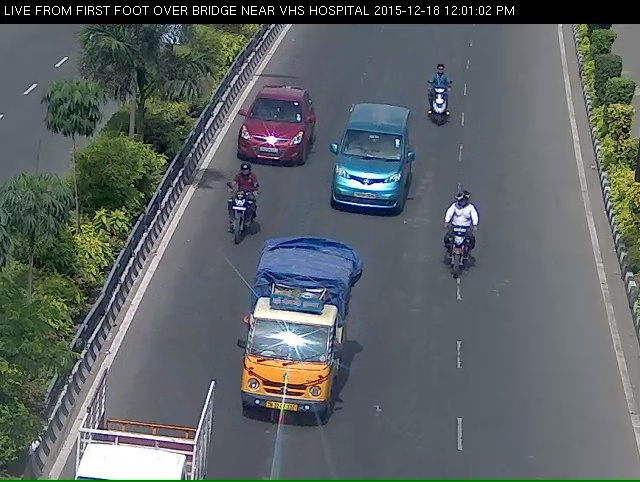Car: (231, 261, 341, 432), (333, 110, 406, 217), (222, 90, 304, 174)
Person: (421, 58, 473, 142), (437, 209, 485, 299), (213, 182, 259, 262)
